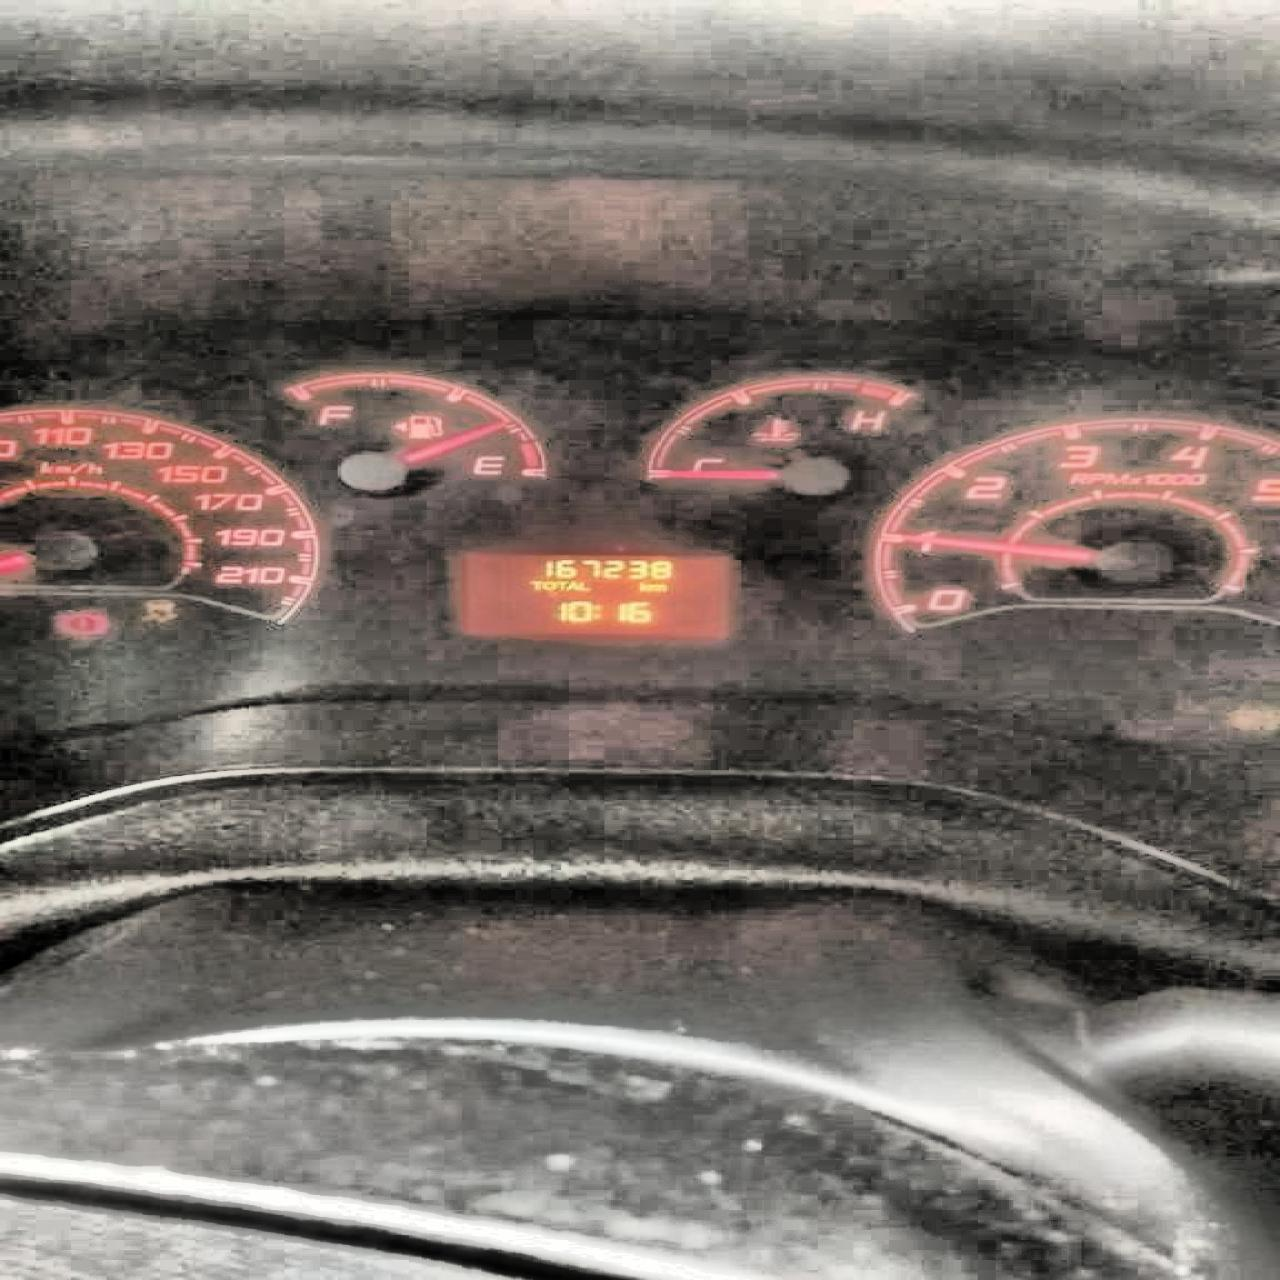0: (567, 599, 588, 620)
1: (556, 599, 565, 622), (615, 601, 625, 624), (543, 559, 553, 577)
2: (600, 559, 625, 579)
3: (626, 559, 647, 579)
6: (627, 599, 652, 624), (553, 558, 576, 578)
7: (580, 558, 598, 578)
8: (649, 558, 670, 578)
X: (647, 581, 669, 592), (576, 579, 591, 591), (539, 579, 553, 590), (553, 579, 567, 590), (591, 604, 600, 619), (526, 579, 540, 588), (565, 579, 576, 590), (638, 580, 645, 592)
odometer: (456, 549, 737, 639)
